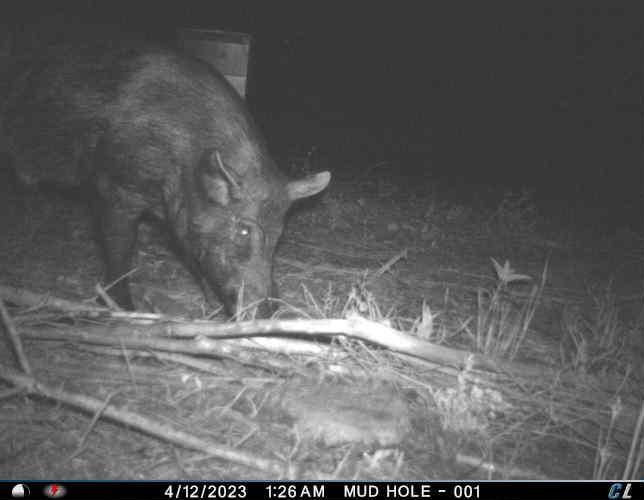Hog: (0, 24, 332, 324)
